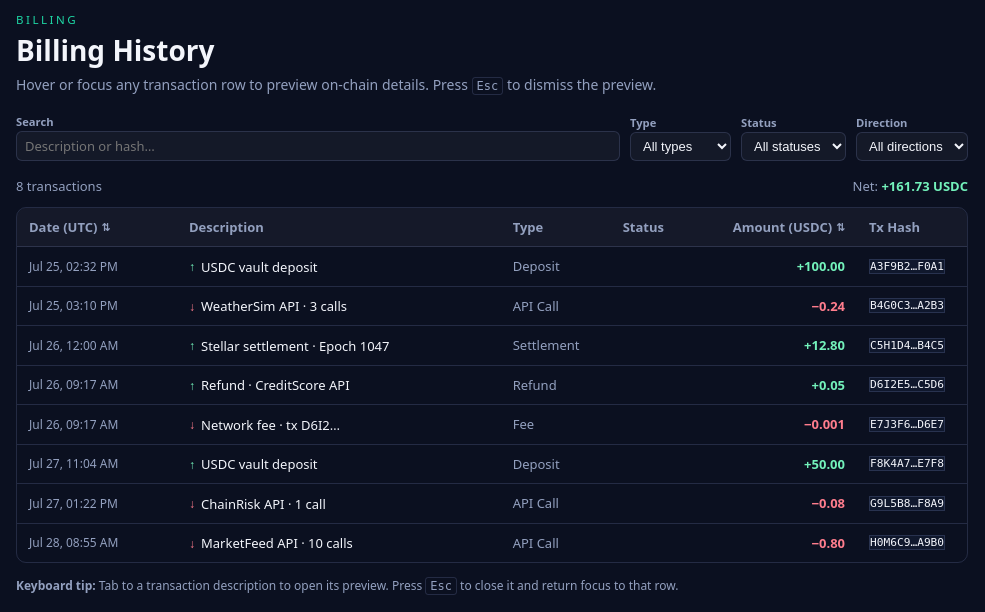
Scenario: BillingHistory — filters › shows empty state when no transactions match
Type "ZZZNOMATCH999" into the search field named "search transactions" at (318, 146), box left=16, top=131, right=620, bottom=161
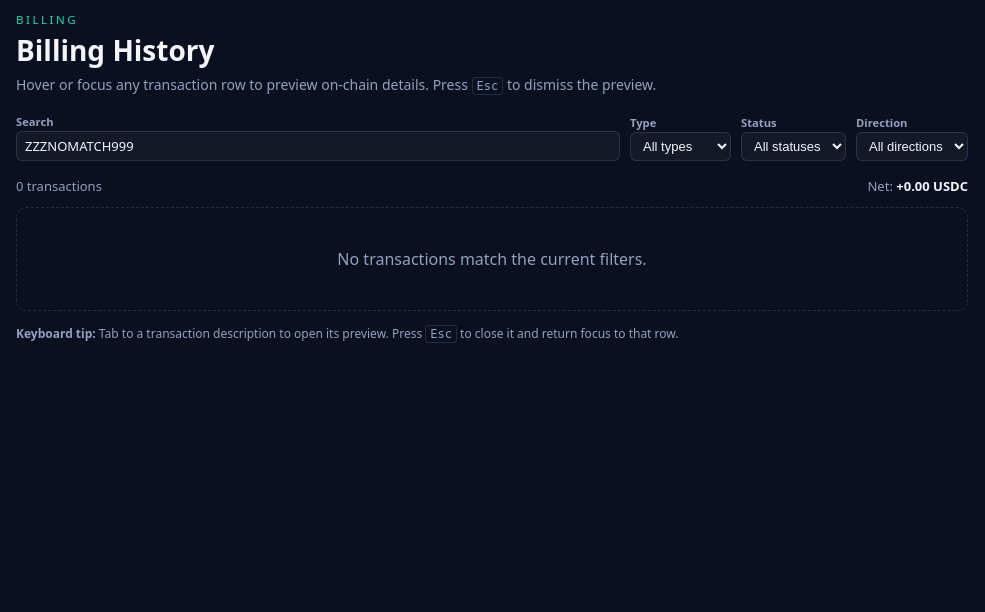
Expected: the text "No transactions match the current filters." is shown, left=16, top=207, right=968, bottom=311
Expected: the table is gone
